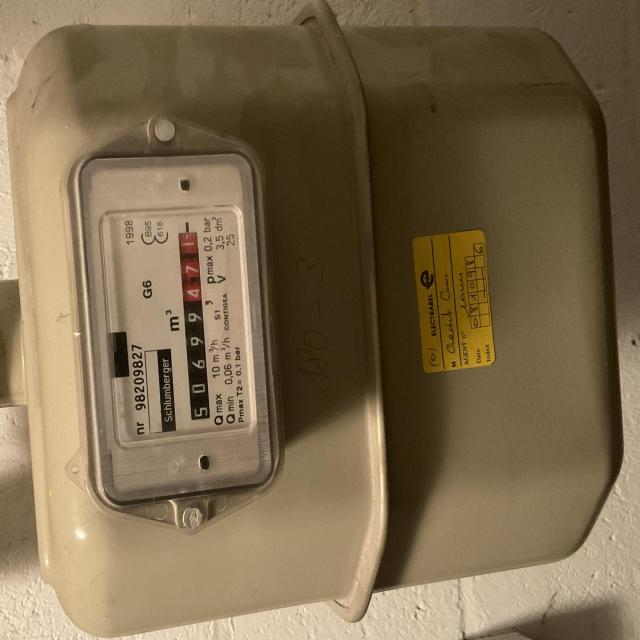gaz_meter: (103, 171, 259, 450)
indication: (176, 232, 211, 422)
